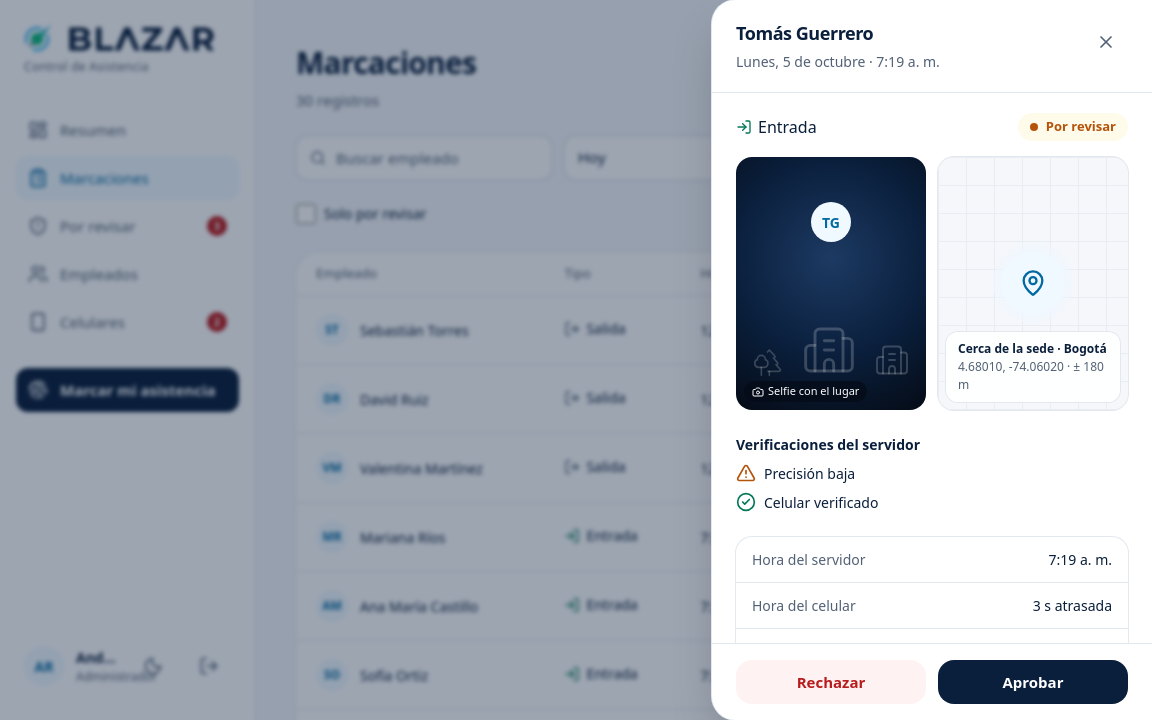
Test case: Marcaciones › el detalle muestra la evidencia y permite decidir
Expected: the list item "Precisión baja" is shown, [736,463,855,483]
Expected: the text "± 180 m" is shown, [958,358,1104,393]
Click the button "Aprobar" at (1033, 682), box [938,660,1128,704]
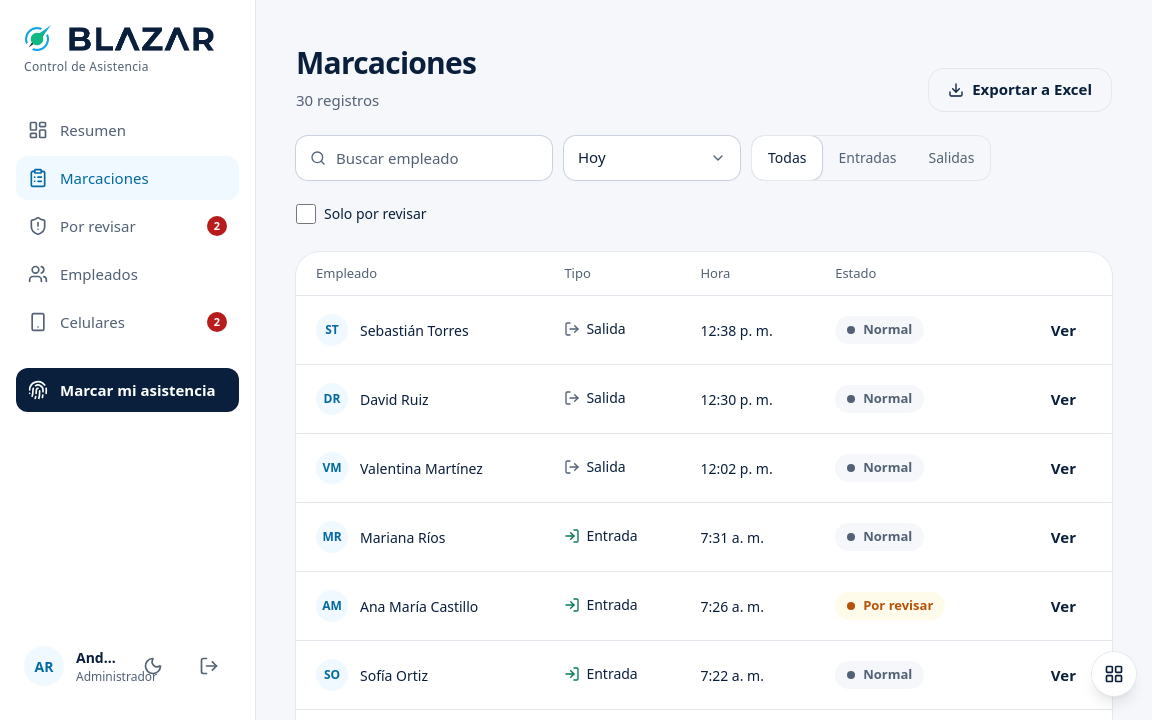
Expected: the dialog is gone
